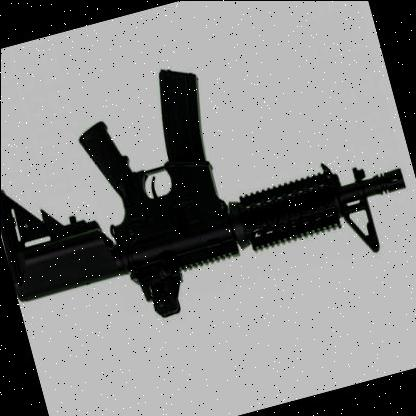rifle: (0, 7, 416, 344)
